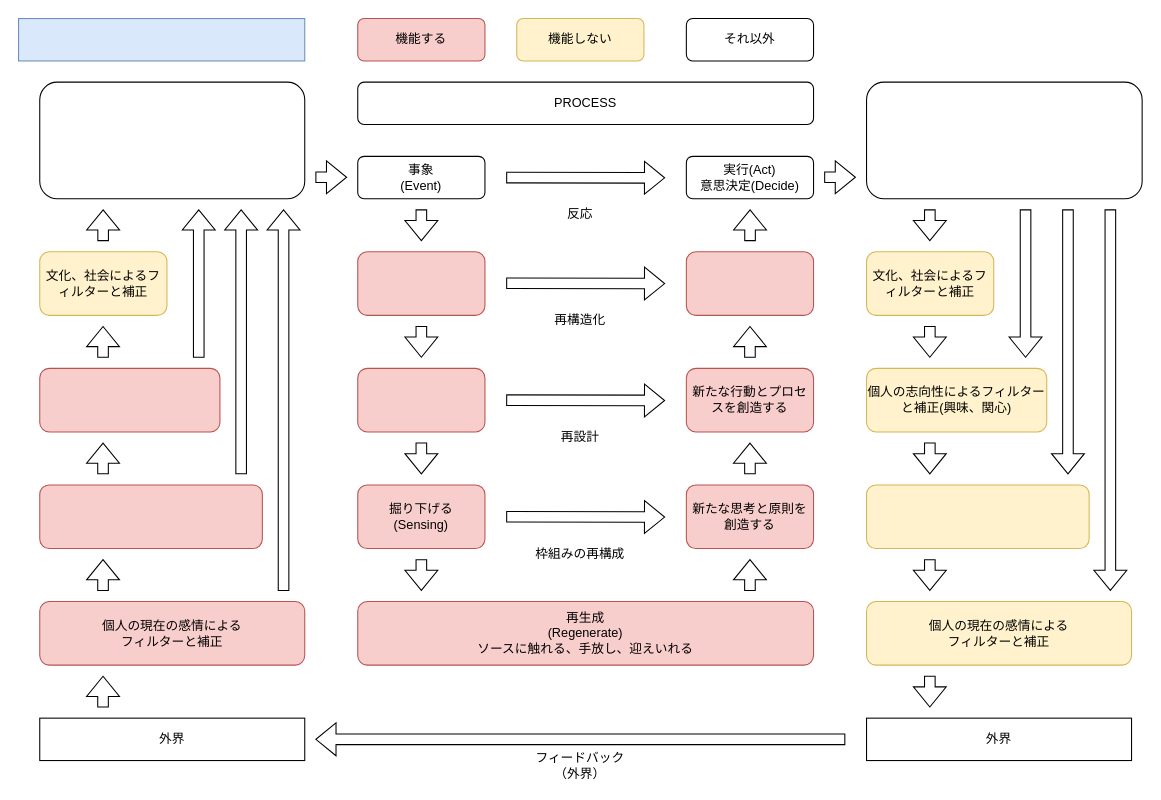
Image size: 1161x800. Some labels were removed from this diagram. Here are the shapes that lost their labels. From the top down, the box of each, then its label:
(17, 17, 305, 61): 自分で気づく 瞑想の仕組み
(39, 81, 305, 199): INPUT
(865, 81, 1142, 199): OUTPUT
(357, 251, 485, 315): 観察 (Observe) フォーカスする、留まる
(685, 251, 814, 315): 新たな構造と実践を創造する
(39, 367, 220, 432): 個人の志向性によるフィルター と補正 (興味、関心)
(357, 367, 485, 432): 情勢判断 (Orient) 複数の視点、視座
(39, 484, 262, 549): 個人の身体によるフィルターと補正 (五感の性能)
(865, 484, 1089, 549): 個人の身体によるフィルター と補正(表現の性能)
